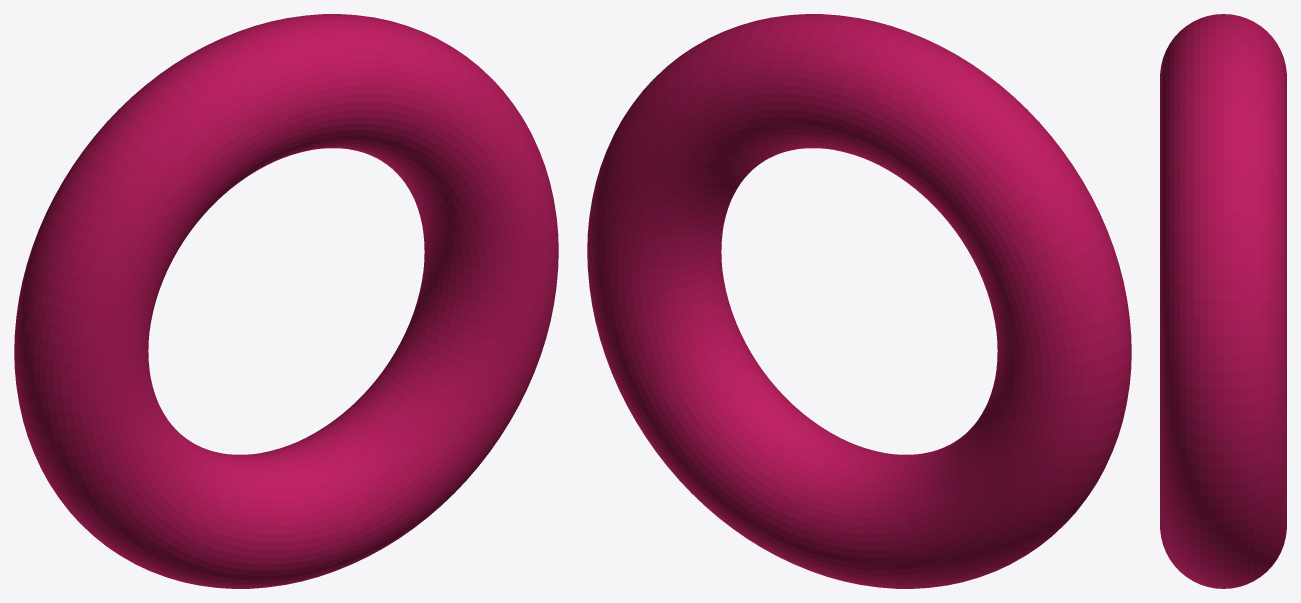
3 renders of one model, left to right at view 1: azimuth 30°, elevation 25°; view 2: azimuth 150°, elevation 25°; view 3: azimuth 270°, elevation 25°, orthographic. The views are drawn at different scales.
Parts seen in each view (by area): view 1: world; view 2: world; view 3: world.
Boxes of the visible parts, x1,y1,x2,y2 form: world: (14,14,558,588); world: (587,14,1131,588); world: (1160,14,1286,588).
Size of the model in its own units: 30.8 by 30.8 by 6.79.
